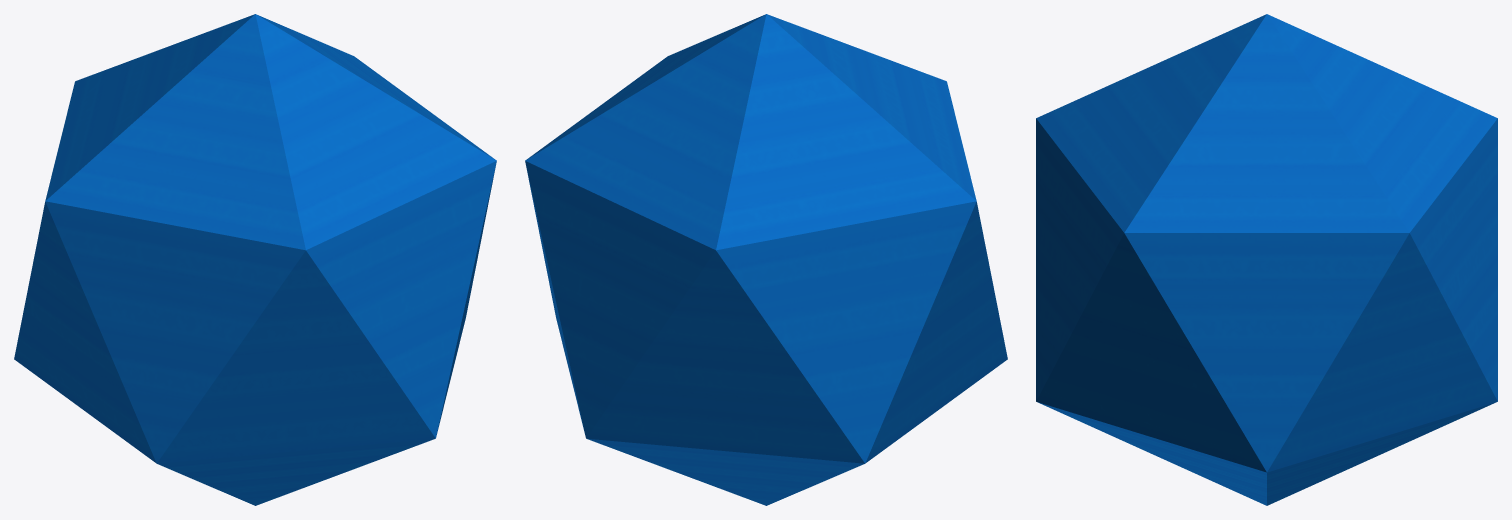
The model's file is thing.obj.
3 views of the same model, side by side, from view 1: azimuth 30°, elevation 25°; view 2: azimuth 150°, elevation 25°; view 3: azimuth 270°, elevation 25° (orthographic).
Parts seen in each view (by area): view 1: Icosphere; view 2: Icosphere; view 3: Icosphere.
Part boxes in pixels (left/top/right/bottom): Icosphere: left=14, top=14, right=496, bottom=505; Icosphere: left=525, top=14, right=1007, bottom=505; Icosphere: left=1036, top=14, right=1497, bottom=505.
Size of the model in its own units: 5.37 by 6 by 5.1.
